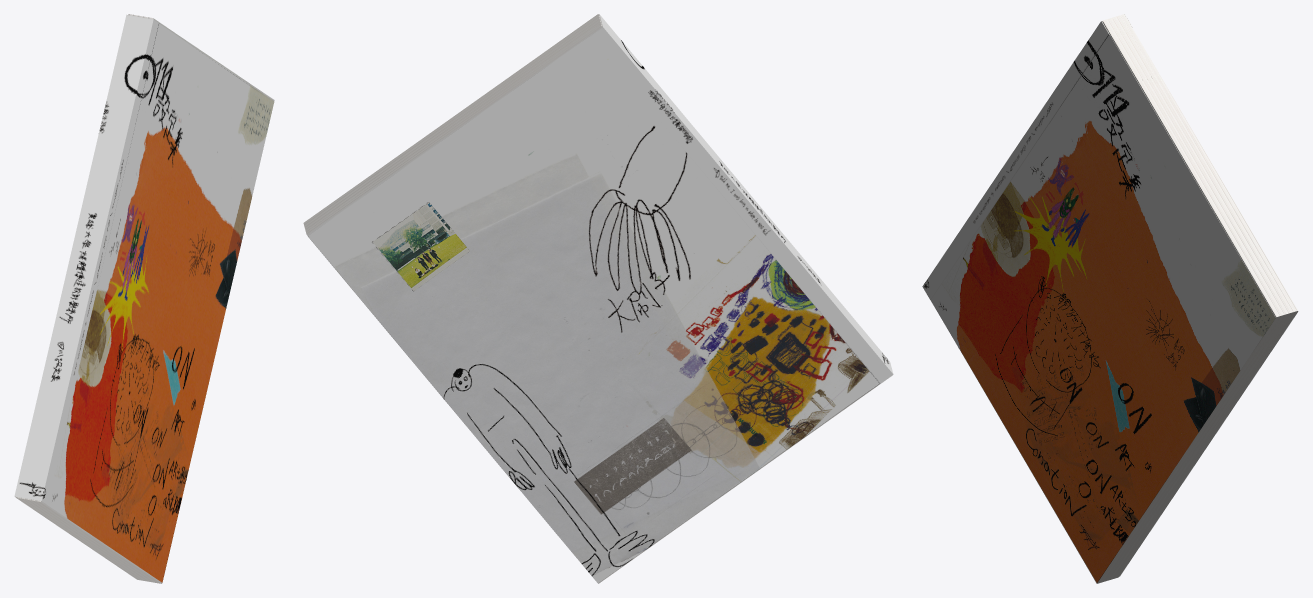
Rendered from conceptbook 2.fbx.
3 views of the same model, side by side, from view 1: azimuth 30°, elevation 25°; view 2: azimuth 150°, elevation 25°; view 3: azimuth 270°, elevation 25° (orthographic).
Visible parts, largest first — view 1: conceptbook:group4; view 2: conceptbook:group4; view 3: conceptbook:group4.
Part boxes in pixels (box(x1,y1,x2,y2)): conceptbook:group4: box(14, 14, 274, 583); conceptbook:group4: box(303, 14, 893, 583); conceptbook:group4: box(922, 14, 1298, 583).
Size of the model in its own units: 512 by 649 by 394.
Materials: 1 (1 with a texture image).
